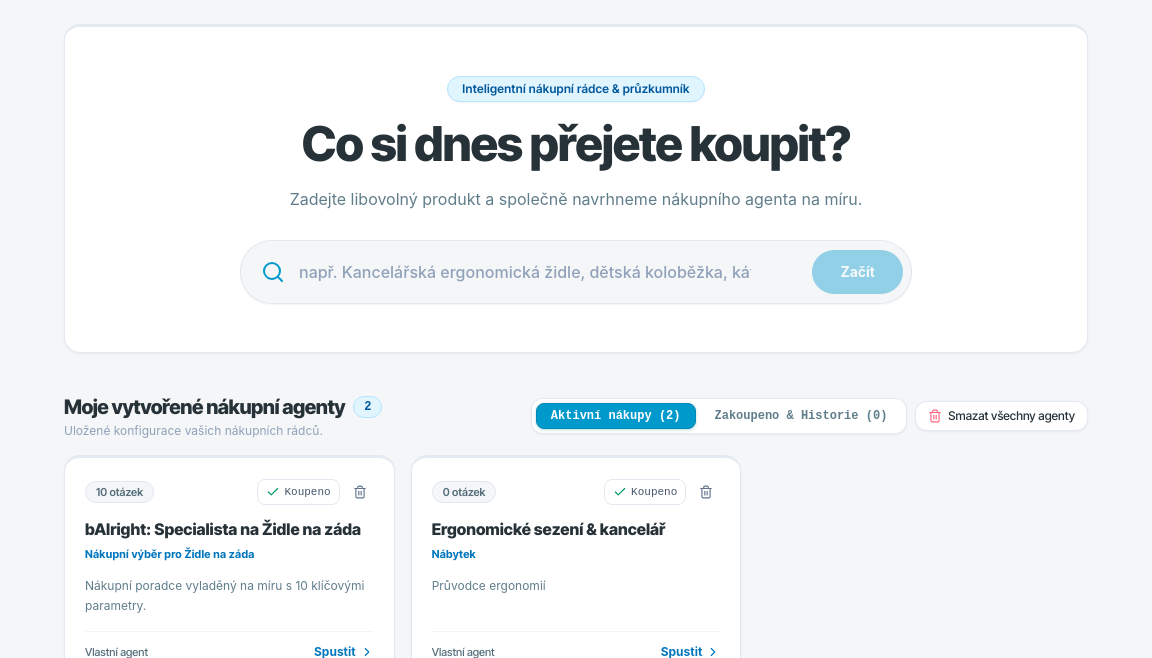
Test case: AgentCategoryLauncher Unit Test Suite (PRD v1) › 5. Přidání vlastního parametru jej zařadí mezi dlaždice s odznakem Vlastní
This screenshot has width=1152, height=658.
Replace the text in the field with placeholder "Kancelářská ergonomická židle" with "kávovar" at (598, 272), box [285,241,911,303]
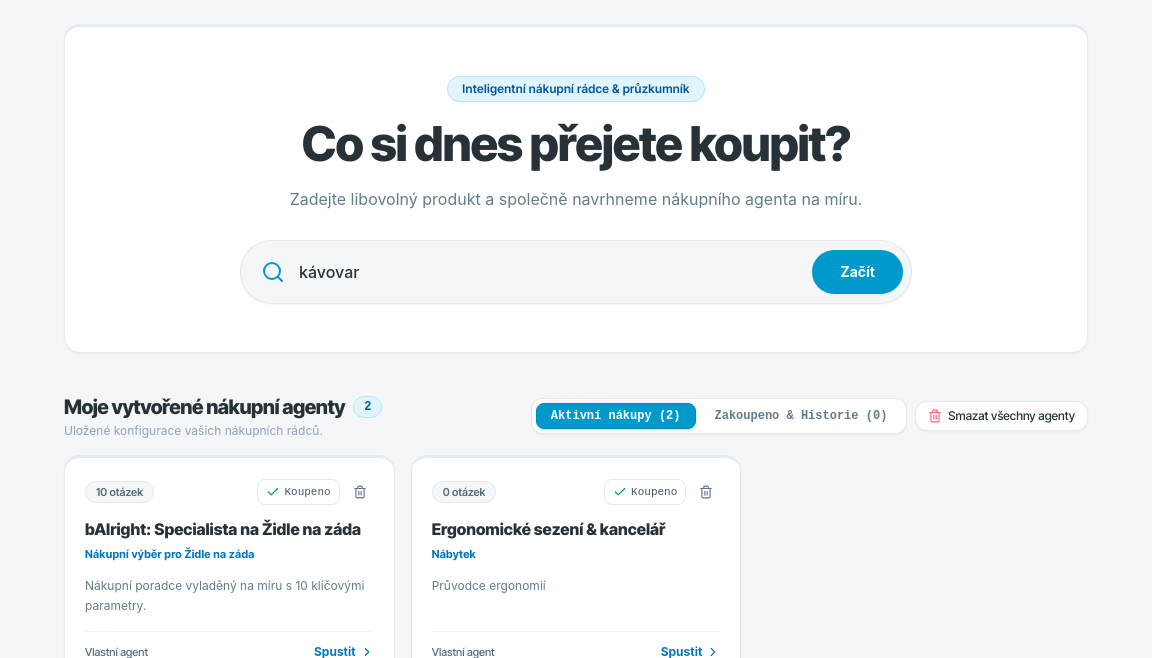
Click the button "Začít" at (858, 272), box [812,250,903,294]
(page scrolled)
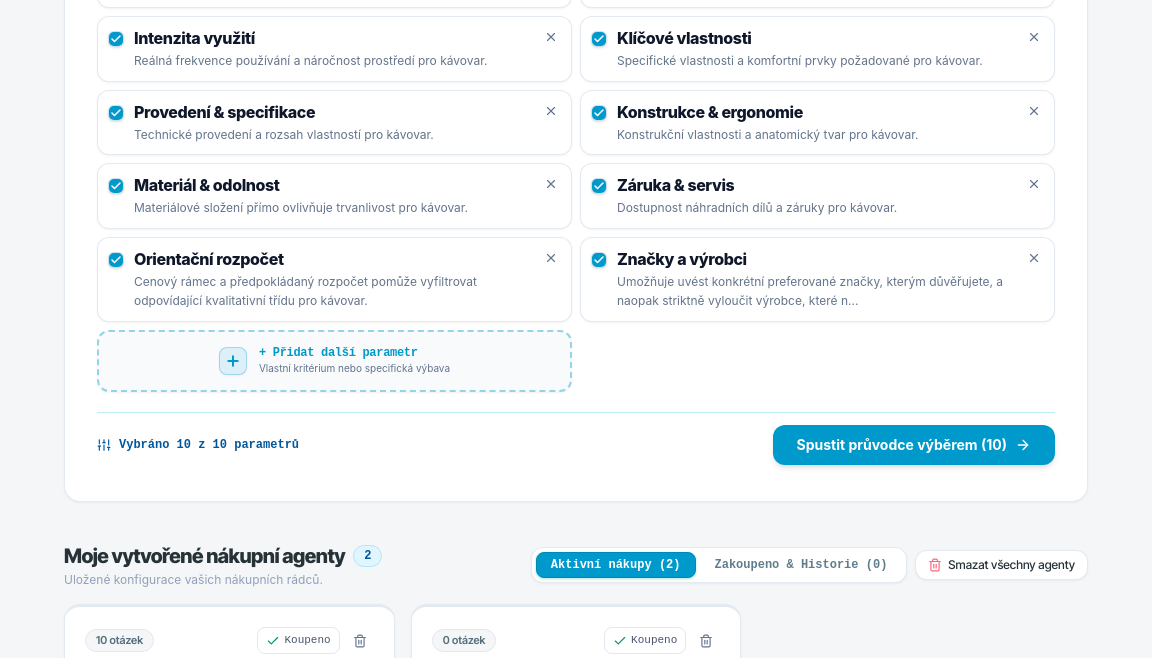
Now the button "+ Přidat další parametr" is shown
Note: In-grid dlaždice rozbalí formulář s text fieldem
Click the button "+ Přidat další parametr" at (334, 360), box [97,330,572,392]
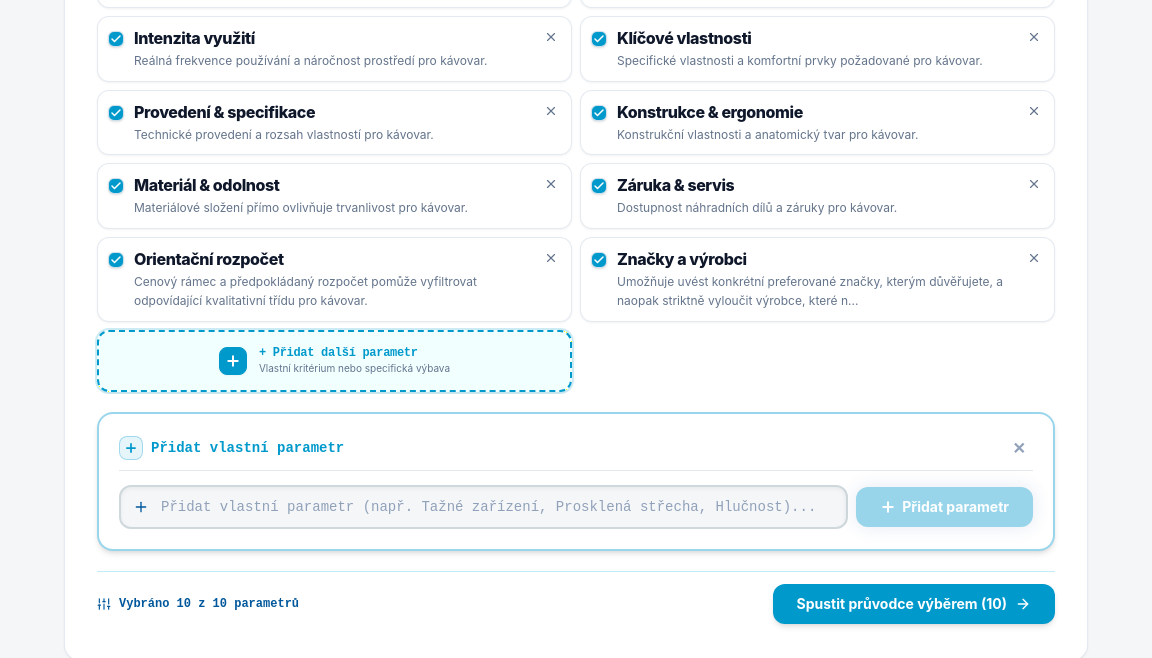
Now the field with placeholder "Přidat vlastní parametr" is shown
Replace the text in the field with placeholder "Přidat vlastní parametr" with "Digitální teploměr páky" at (484, 506), box [119,484,848,528]
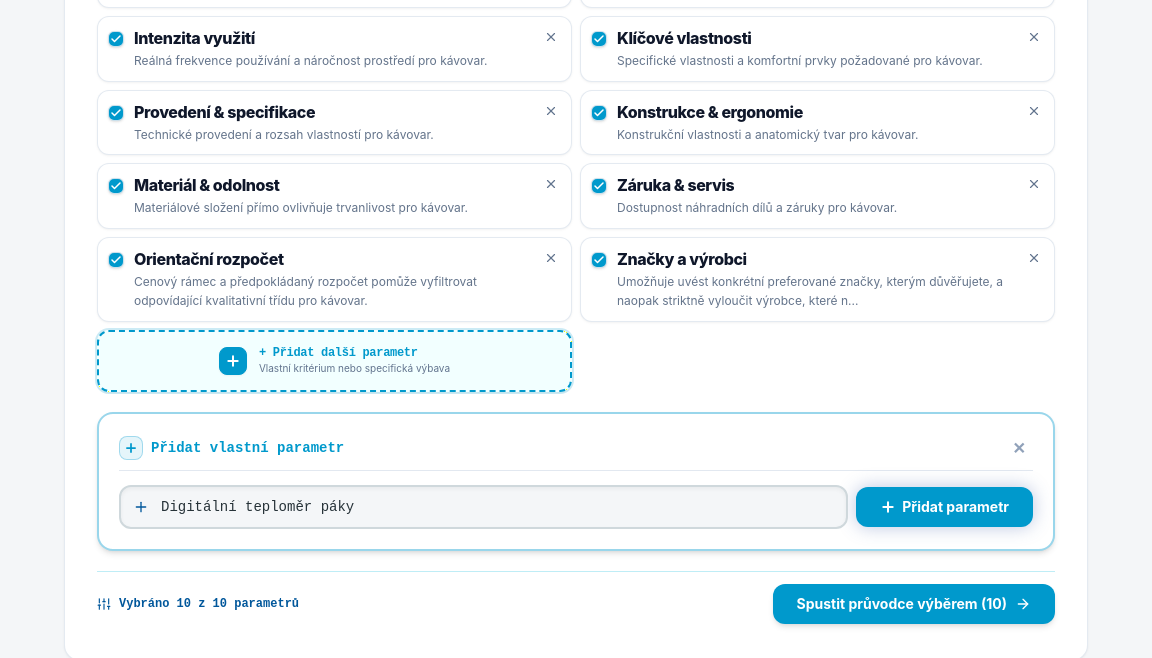
Click the button "Přidat parametr" at (945, 506), box [856,486,1033,526]
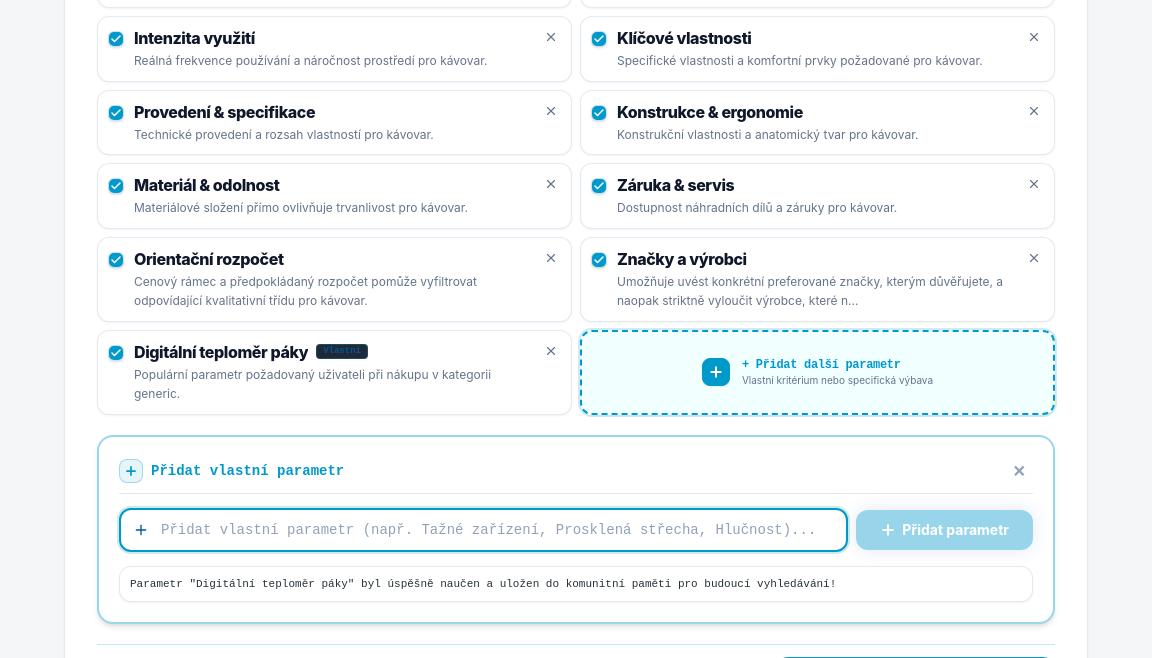
Now the text "Vlastní" is shown, box [316,344,368,359]
